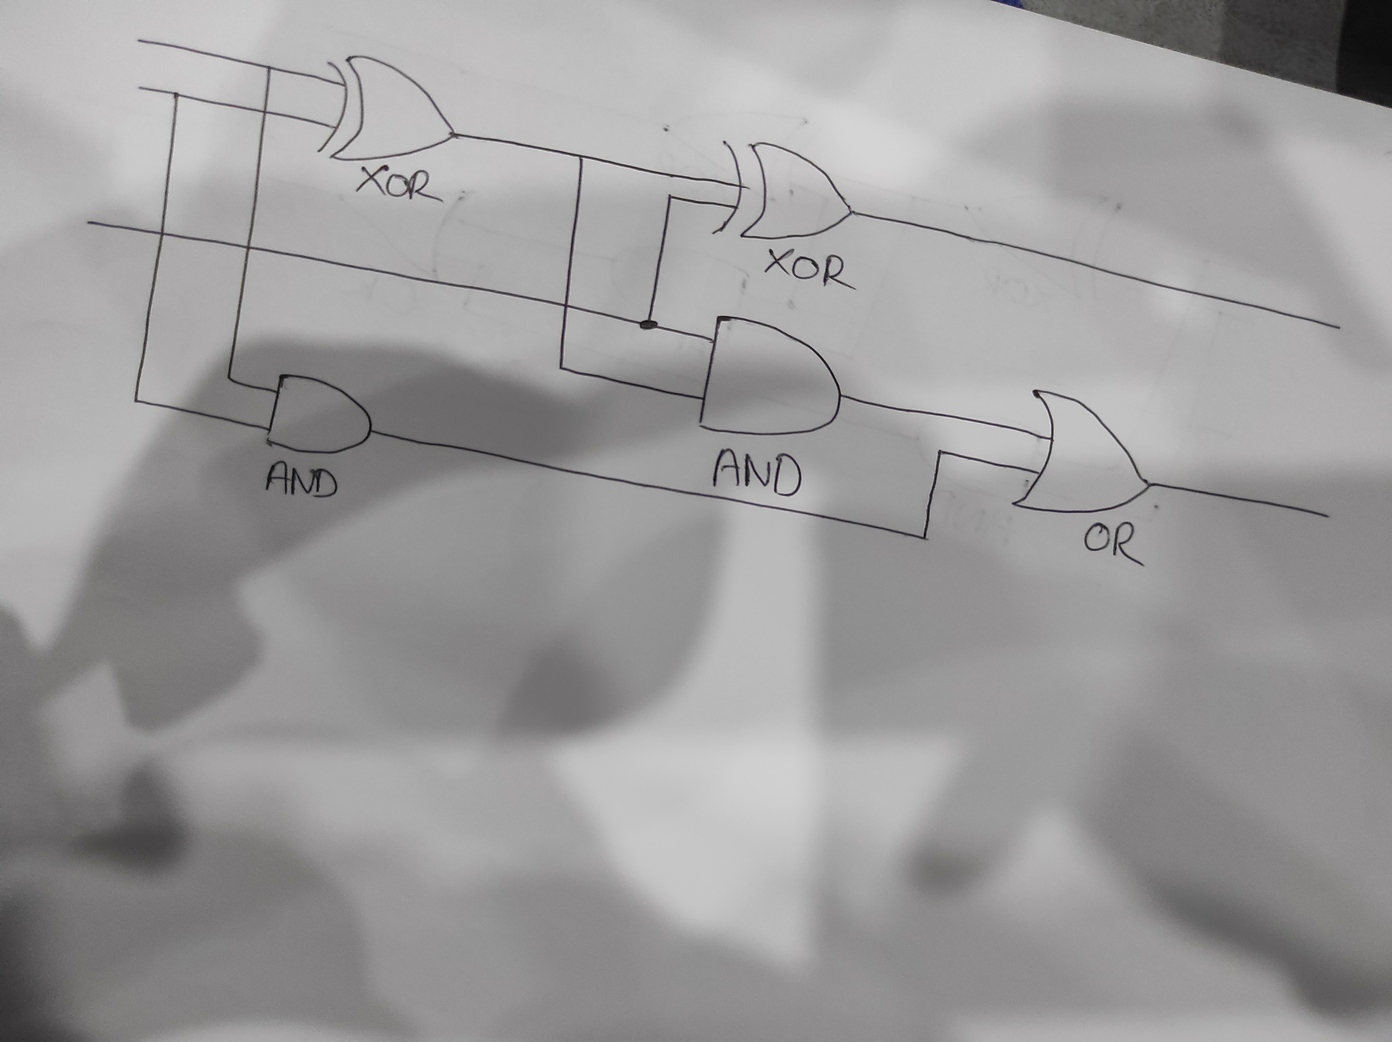and: (692, 312, 845, 438), (263, 370, 376, 456)
crossover: (240, 239, 257, 256), (152, 225, 172, 241), (558, 297, 575, 312), (256, 104, 274, 118)
junction: (928, 441, 954, 465), (635, 315, 660, 335), (914, 528, 933, 547), (572, 147, 591, 167), (221, 369, 239, 387), (260, 60, 276, 76), (553, 360, 568, 375), (663, 190, 678, 206), (128, 392, 142, 408), (169, 89, 184, 101)
or: (1007, 387, 1156, 516)
terminal: (78, 215, 98, 231), (1331, 321, 1347, 334), (132, 35, 149, 47), (134, 82, 148, 95), (1319, 509, 1334, 521)
text: (709, 447, 805, 497), (764, 247, 857, 292), (353, 162, 448, 202), (258, 459, 343, 501), (1082, 520, 1147, 568)
xor: (313, 53, 462, 165), (710, 137, 858, 242)
